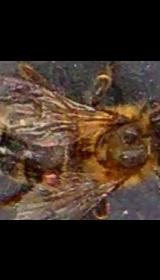varroa_mite: (38, 163, 61, 190)
